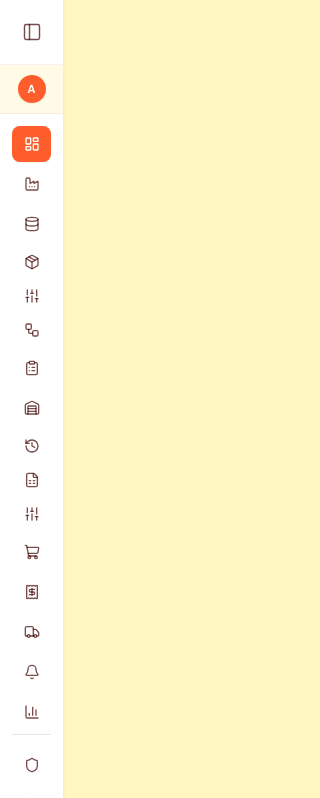
Test: Sidebar Component - Dynamic Sidebar & Premium Motion › shows tooltips on keyboard focus and dismisses them on Escape and scrolling
Focus the link named "Dashboard" at (32, 144), box [12,126,51,162]
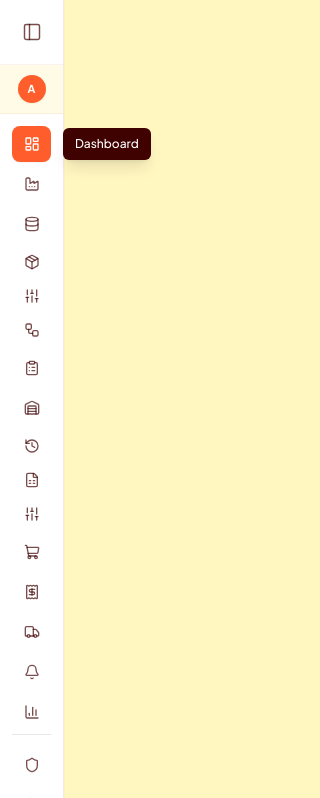
Expected: the tooltip reads "Dashboard", [75,136,139,151]
Press Escape in the link named "Dashboard", box [12,126,51,162]
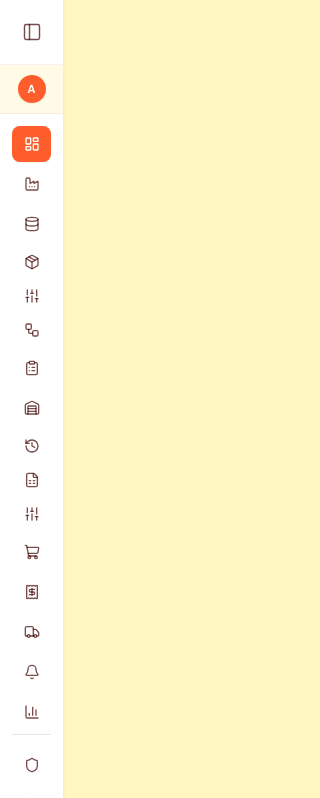
Focus the link named "Stock statement" at (32, 480), box [12,464,51,496]
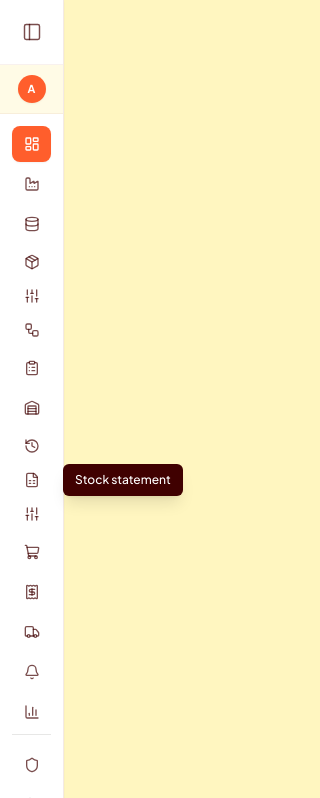
Expected: the tooltip reads "Stock statement", [75,472,171,487]
